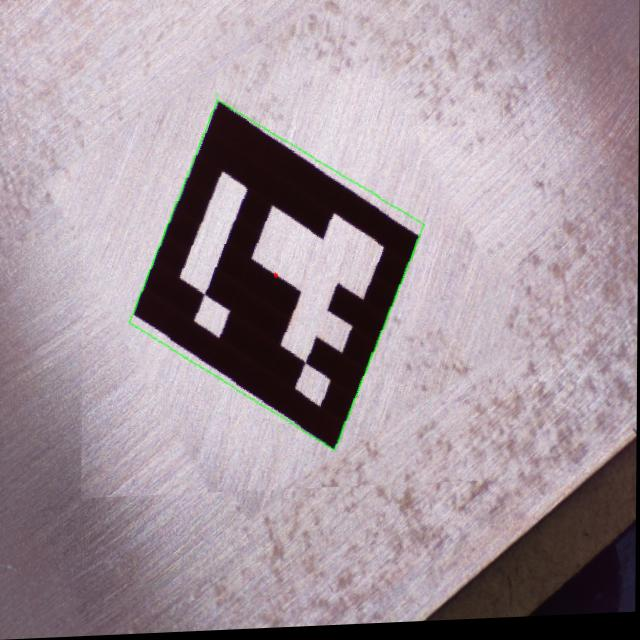aruco: (82, 21, 508, 499)
